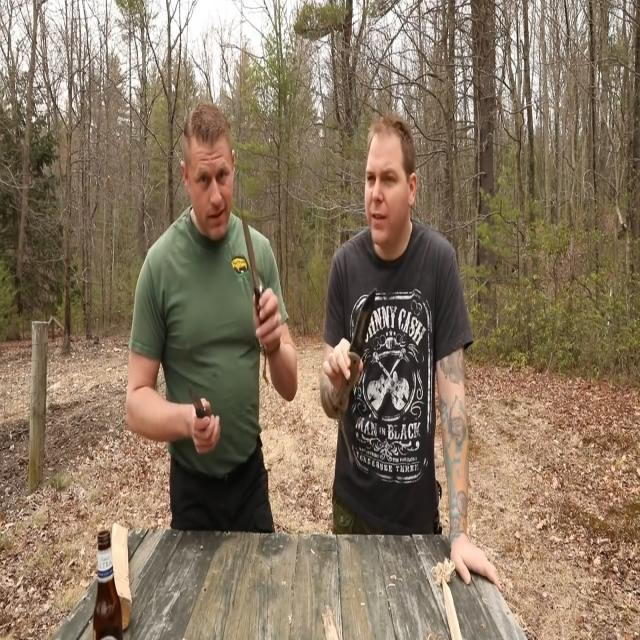knife: (332, 292, 382, 421), (243, 209, 265, 305), (185, 375, 209, 424)
